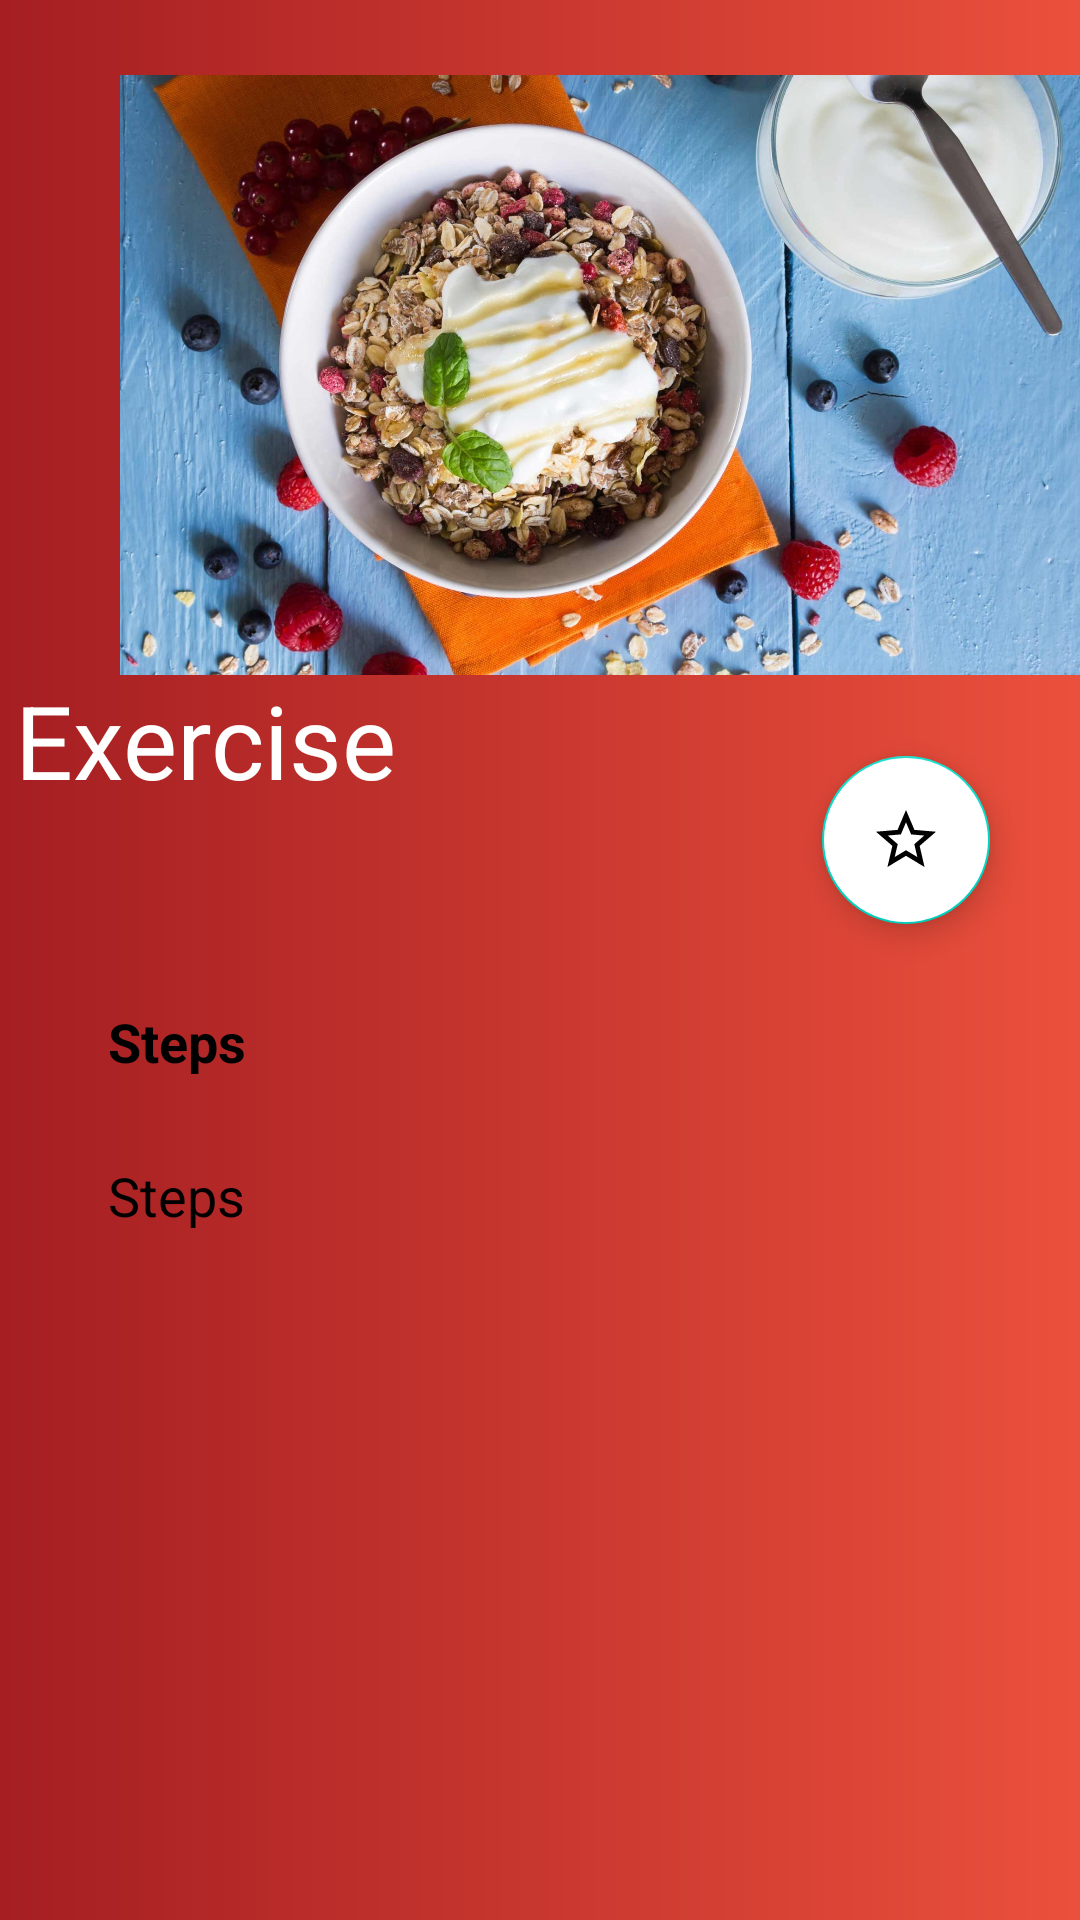

Screen size 1080 x 1920. Icon name, then its center in pixels as point (x, y):
star border: point (906, 840)
